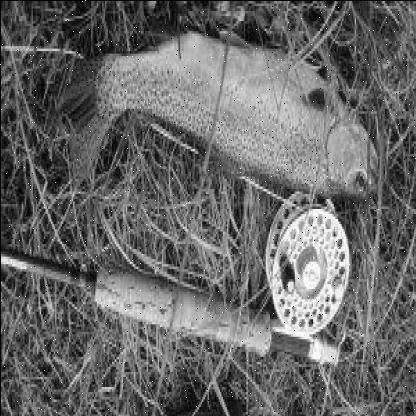fish: (59, 20, 385, 208)
